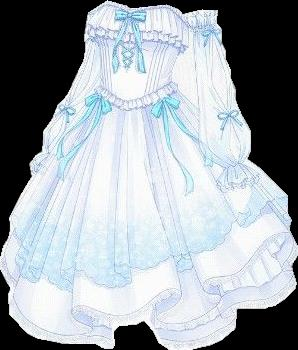Bodice: (86, 1, 189, 103)
Hemline: (0, 249, 297, 349), (6, 193, 288, 293)
Neckline: (87, 0, 187, 19)
Skirt: (0, 82, 297, 349)
Sleeve: (185, 9, 264, 192)
Sleeveline: (183, 14, 193, 50), (222, 158, 248, 169)
Waistline: (97, 81, 173, 105)
